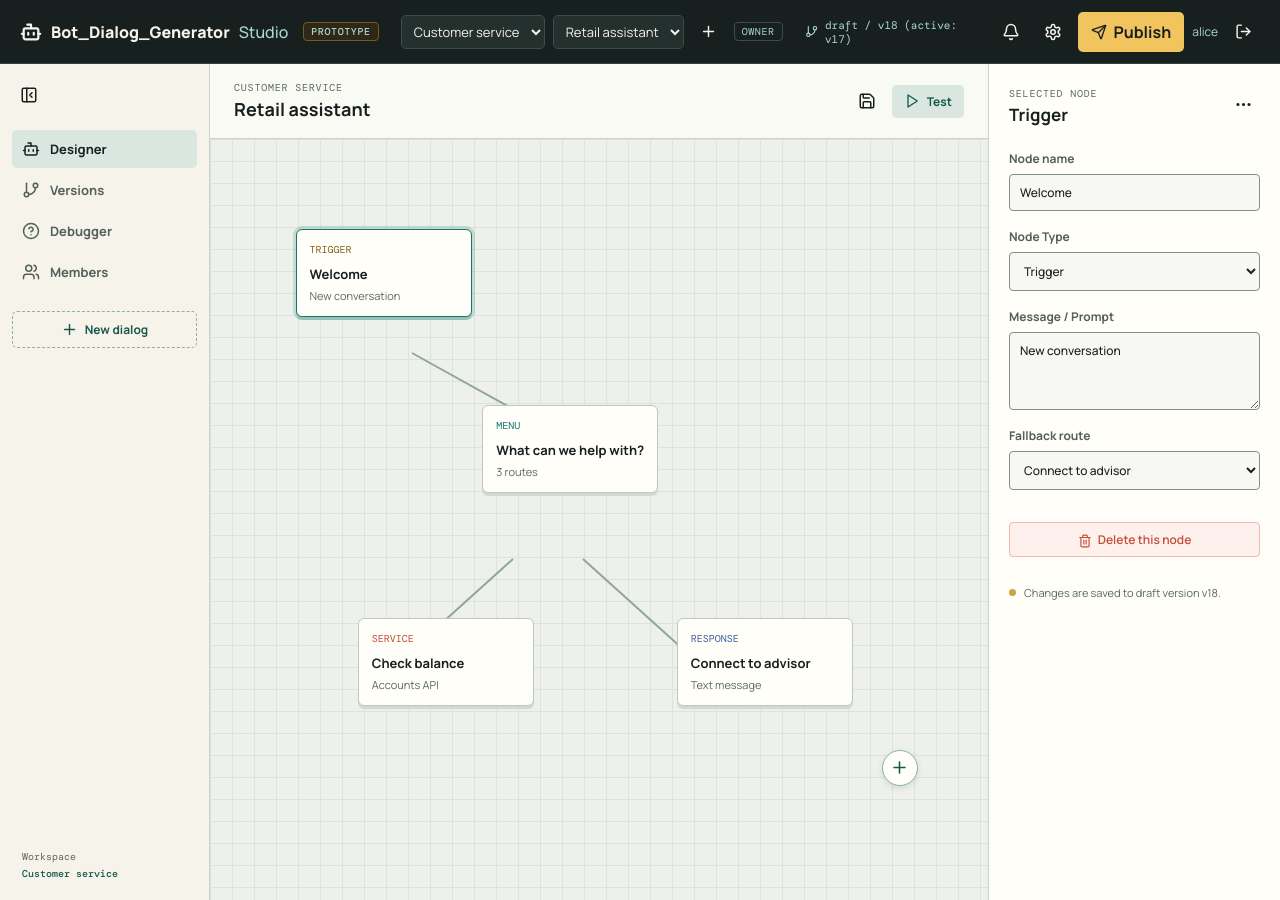
Test case: Studio › starts with the first node selected and follows node selection
Expected: the heading "Trigger" is shown, [1009,103,1068,126]
Click the text "Check balance" at x=418, y=663, box [372,654,464,672]
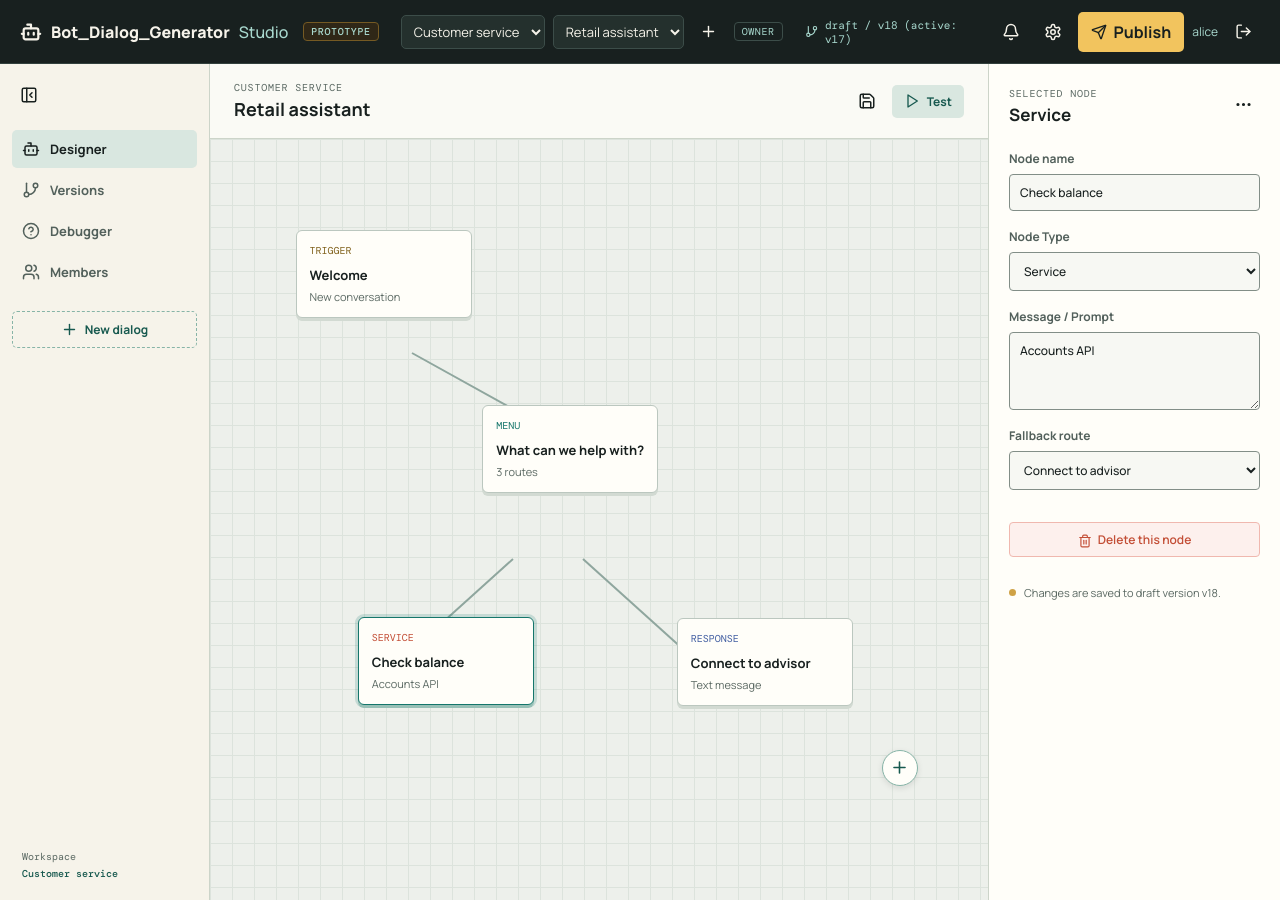
Expected: the heading "Service" is shown, [1009,103,1071,126]
Click the text "Connect to advisor" at x=751, y=663, box [691,654,811,672]
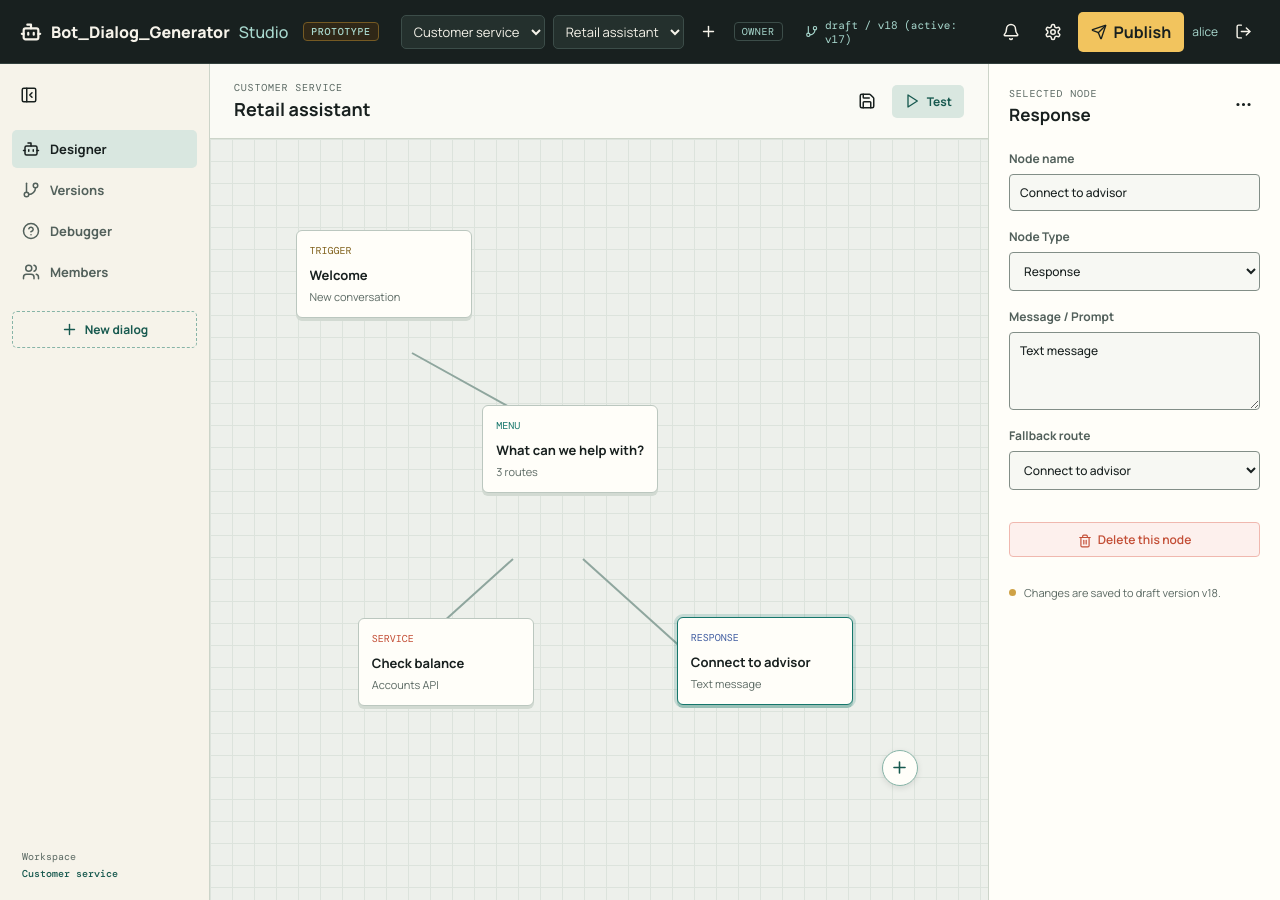
Expected: the heading "Response" is shown, [1009,103,1097,126]
